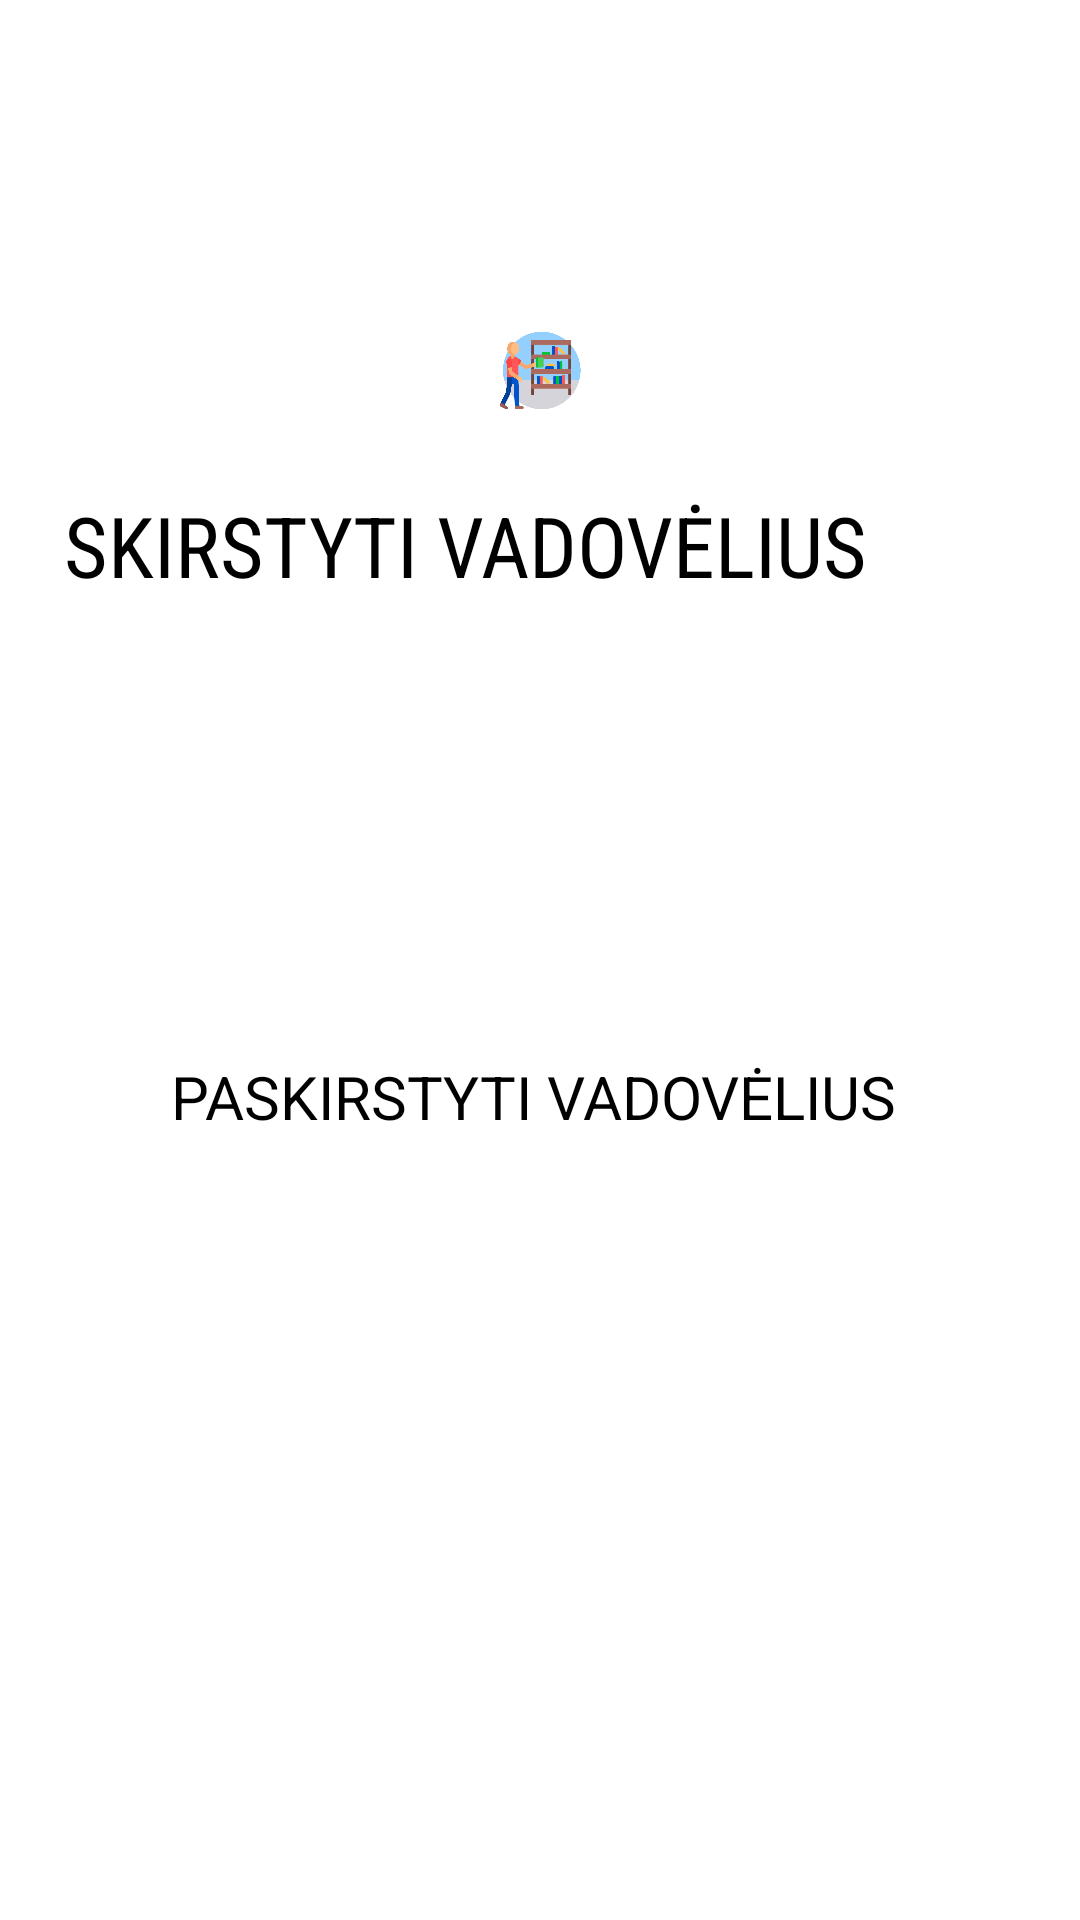

Icon click points for this 1080x1920 phone screenshot, format (x=x, y=y):
library: (x=540, y=370)
